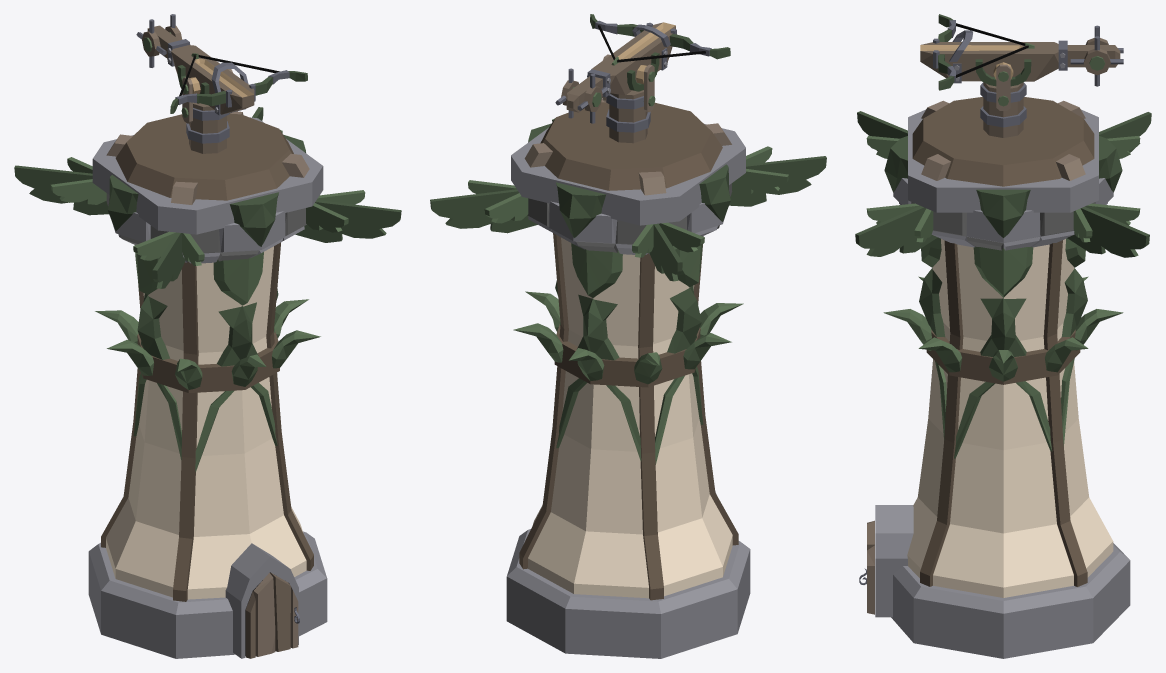
Rendered from _Ballista_tower_LVL_3.fbx.
3 views of the same model, side by side, from view 1: azimuth 30°, elevation 25°; view 2: azimuth 150°, elevation 25°; view 3: azimuth 270°, elevation 25° (orthographic). The views are drawn at different scales.
Parts seen in each view (by area): view 1: Ballista_tower_LVL_3; view 2: Ballista_tower_LVL_3; view 3: Ballista_tower_LVL_3.
Boxes of the visible parts, x1,y1,x2,y2 form: Ballista_tower_LVL_3: (14, 14, 401, 658); Ballista_tower_LVL_3: (430, 14, 826, 658); Ballista_tower_LVL_3: (855, 14, 1151, 658).
Bounding box in the file's own units: 662 × 1413 × 662.
